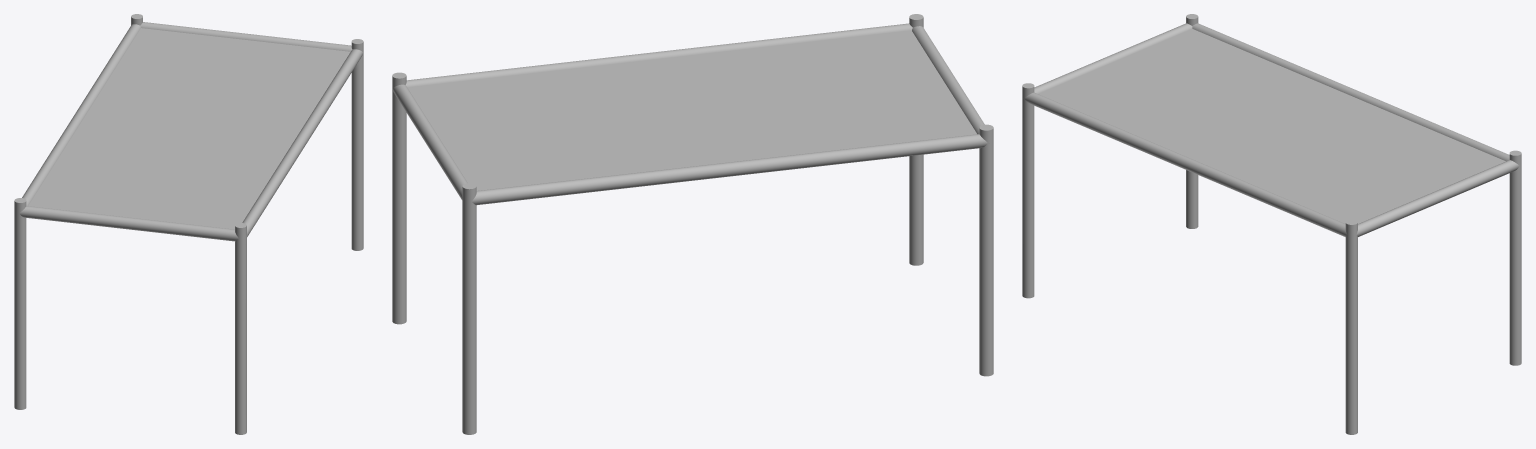
The model's file is cabinet_frame_03.glb.
3 renders of one model, left to right at view 1: azimuth 30°, elevation 25°; view 2: azimuth 150°, elevation 25°; view 3: azimuth 270°, elevation 25°, orthographic. The views are drawn at different scales.
Visible parts, largest first — view 1: cabinet_frame_03; view 2: cabinet_frame_03; view 3: cabinet_frame_03.
Part boxes in pixels (bbox=[...]): cabinet_frame_03: bbox=[14, 14, 363, 434]; cabinet_frame_03: bbox=[392, 14, 993, 434]; cabinet_frame_03: bbox=[1022, 14, 1521, 434].
Bounding box in the file's own units: 0.8185 × 0.38 × 0.8185.
Materials: 1 (1 with a texture image).
